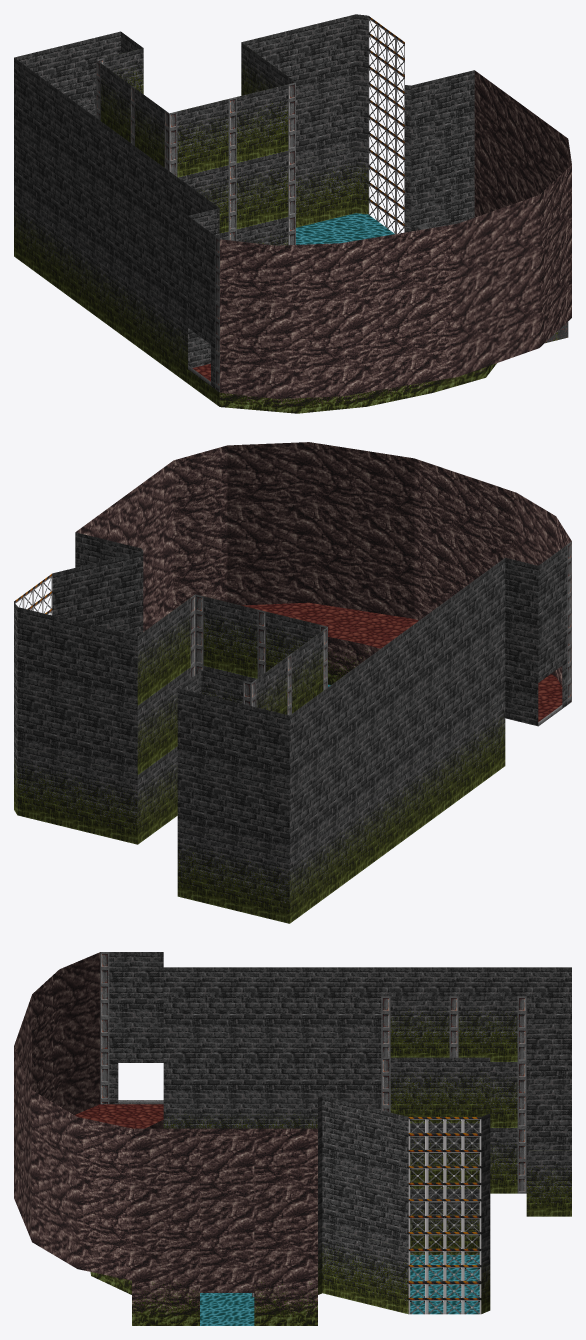
Rendered from map01_sect06.obj.
The picture shows the model from 3 angles, top to bottom: view 1: azimuth 30°, elevation 25°; view 2: azimuth 150°, elevation 25°; view 3: azimuth 270°, elevation 25°; orthographic projection. The views are drawn at different scales.
Visible parts, largest first — view 1: MAP01; view 2: MAP01; view 3: MAP01.
Boxes of the visible parts, left/top/right/bottom form: MAP01: left=14, top=14, right=571, bottom=413; MAP01: left=14, top=442, right=571, bottom=923; MAP01: left=14, top=952, right=571, bottom=1325.
Size of the model in its own units: 1472 by 768 by 1968.
